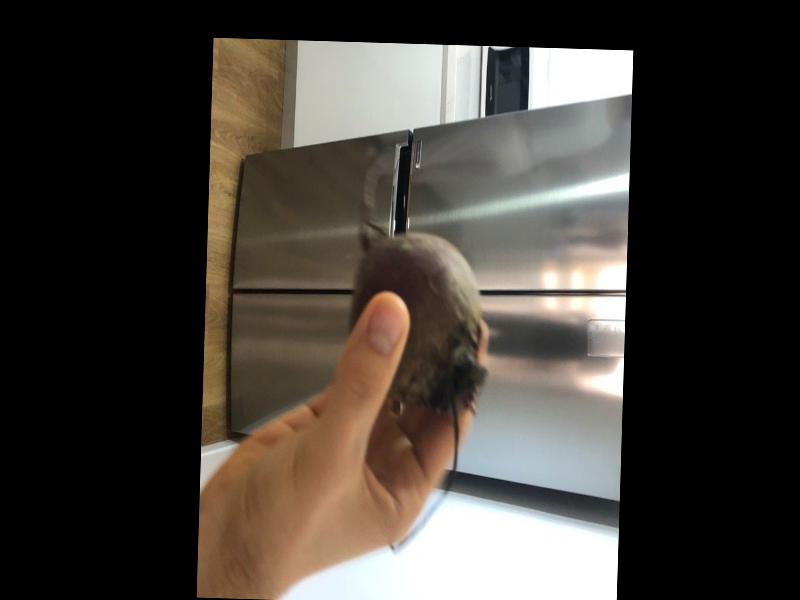Beet: (344, 200, 491, 553)
